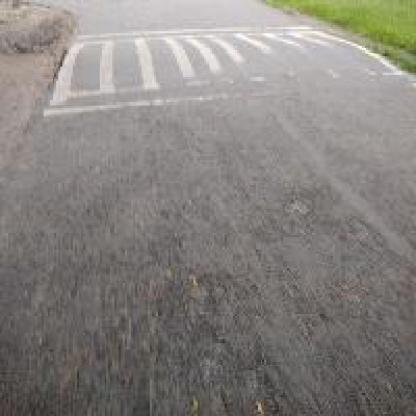Speed Bump: (44, 18, 412, 120)
